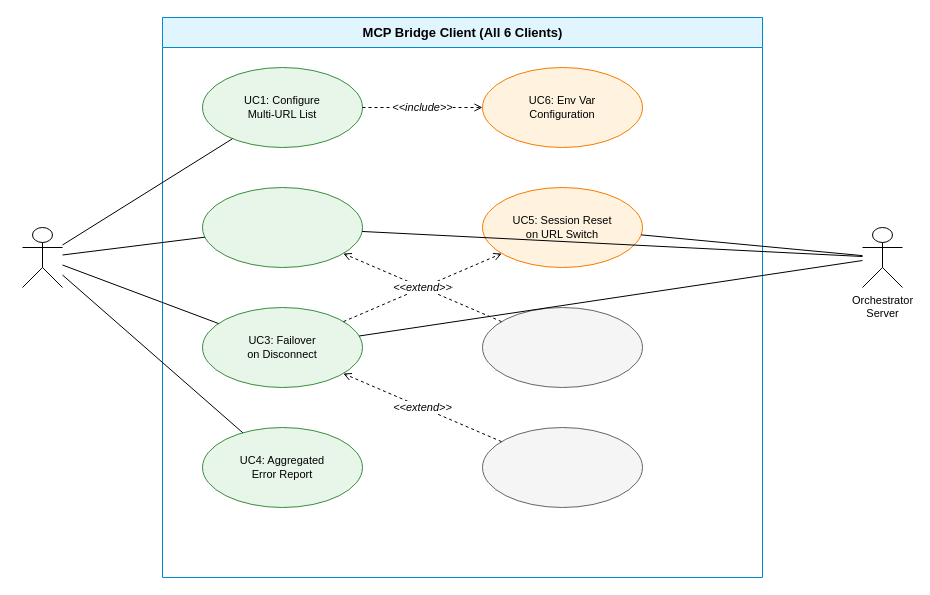
This 930x595 diagram has some shape labels left out. Here are the shapes that lost their labels. From the top down, the centre of each, then its label:
At point 282,227: "UC2: Sequential Connection".
At point 42,257: "Developer".
At point 562,347: "UC7: Backward Compatible Mode".
At point 562,467: "UC8: WARN Log on URL Switch".
